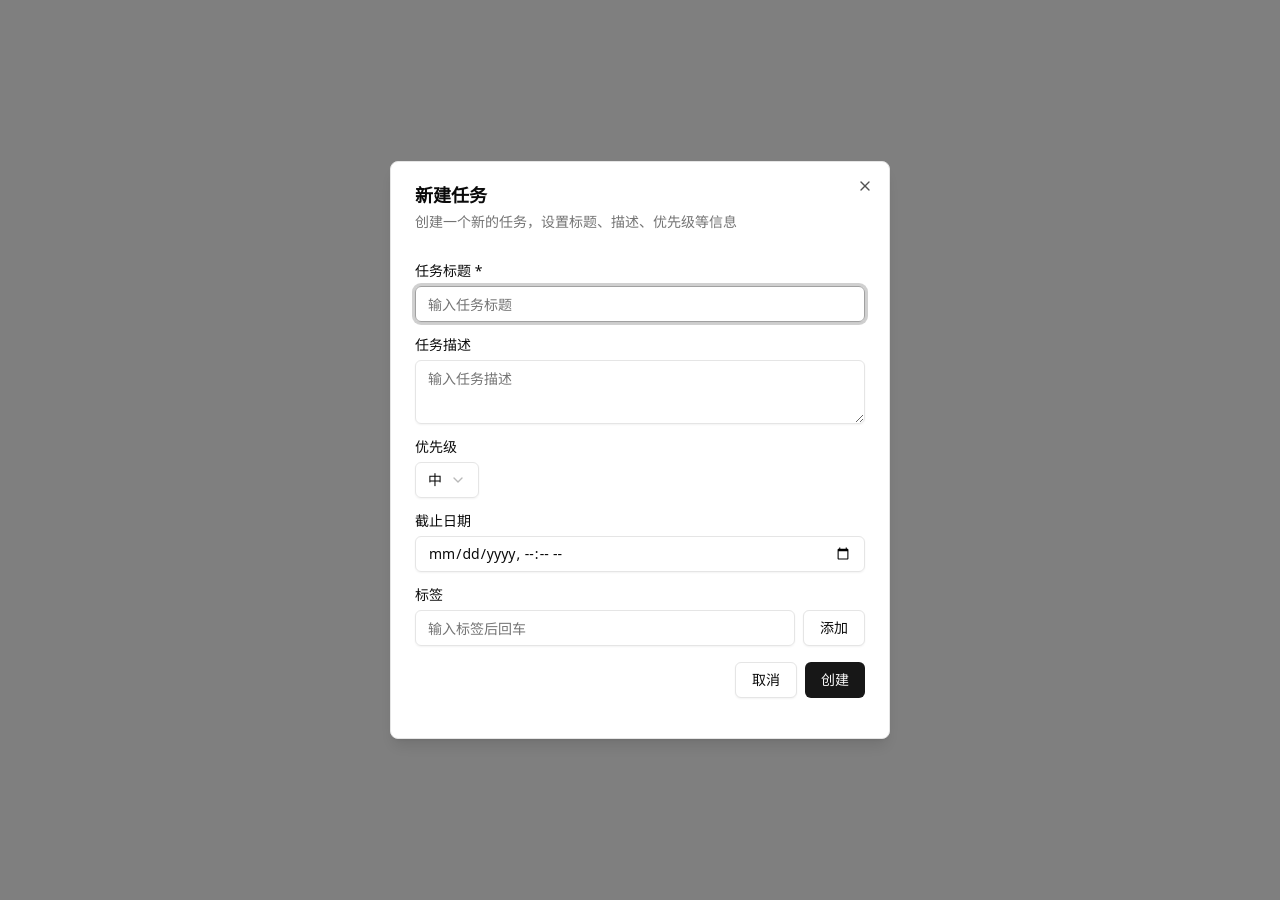
Test: TaskCreateDialog › 应该能够添加和删除标签
Type "tag1" into the field with placeholder "输入标签后回车".
click(605, 628); type("tag1")  # box left=415, top=610, right=795, bottom=646
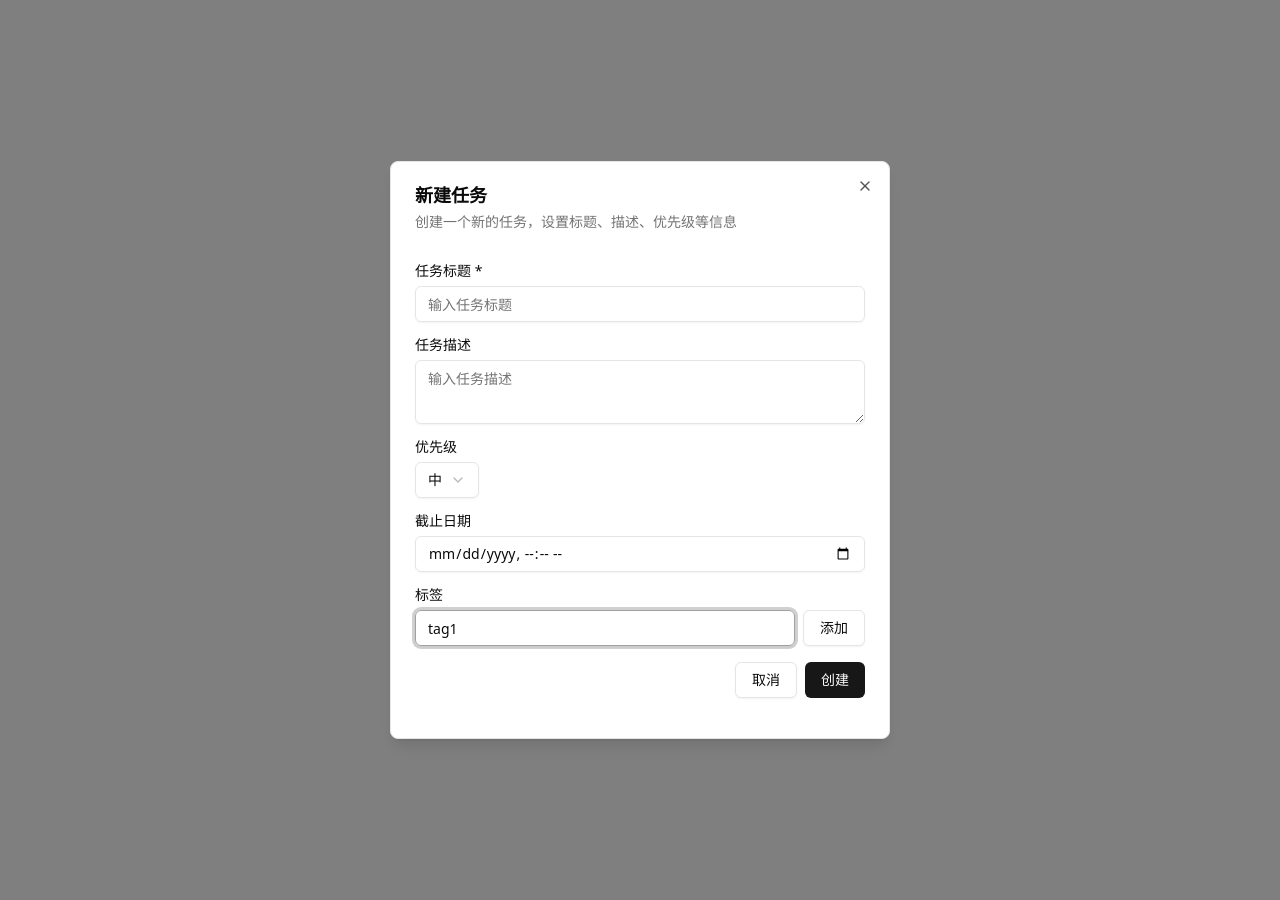
Click the button "添加".
click(834, 628)  # box left=803, top=610, right=865, bottom=646
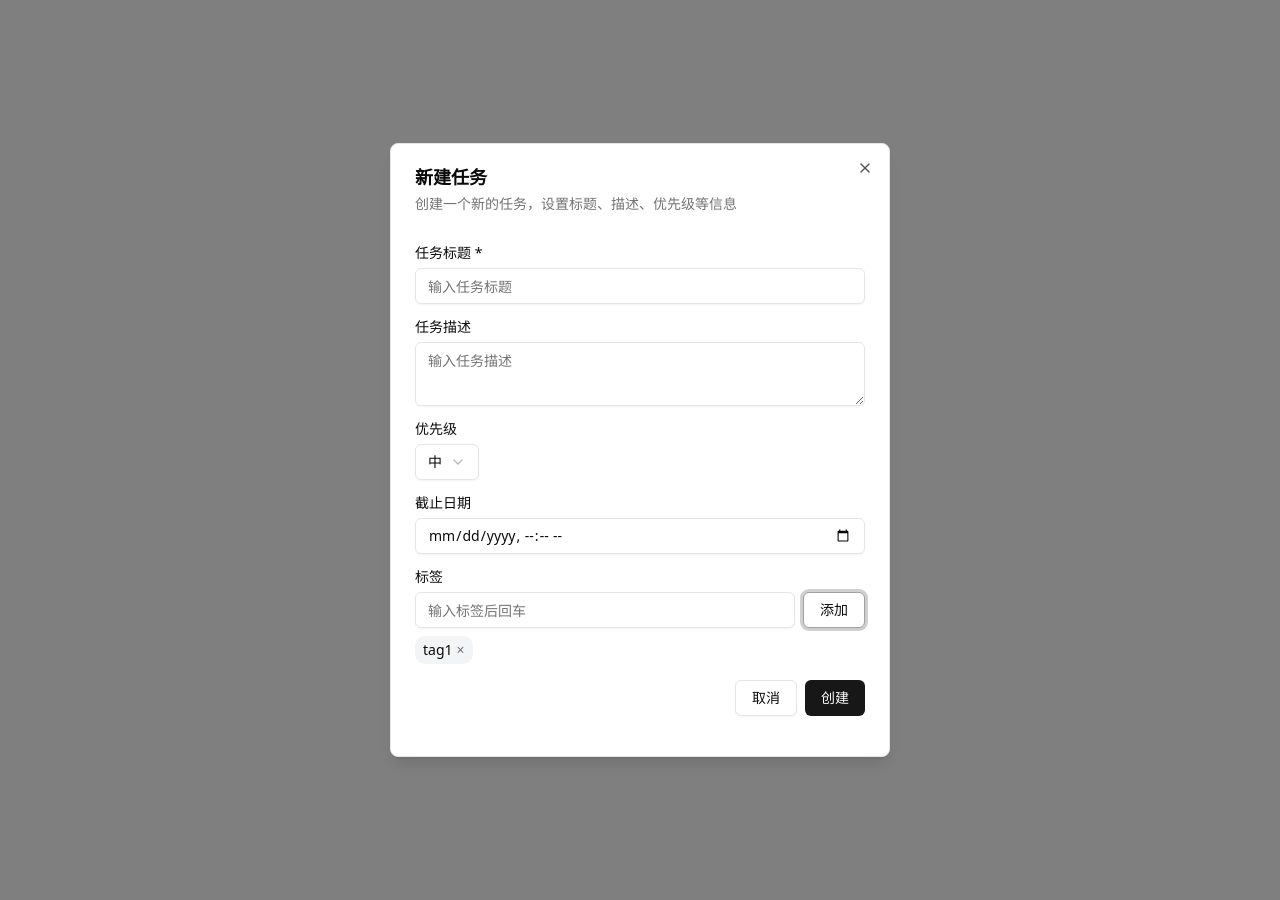
Expected: the text "tag1" is shown, left=423, top=640, right=452, bottom=659
 添加第二个标签
Type "tag2" into the field with placeholder "输入标签后回车".
click(605, 610); type("tag2")  # box left=415, top=592, right=795, bottom=628
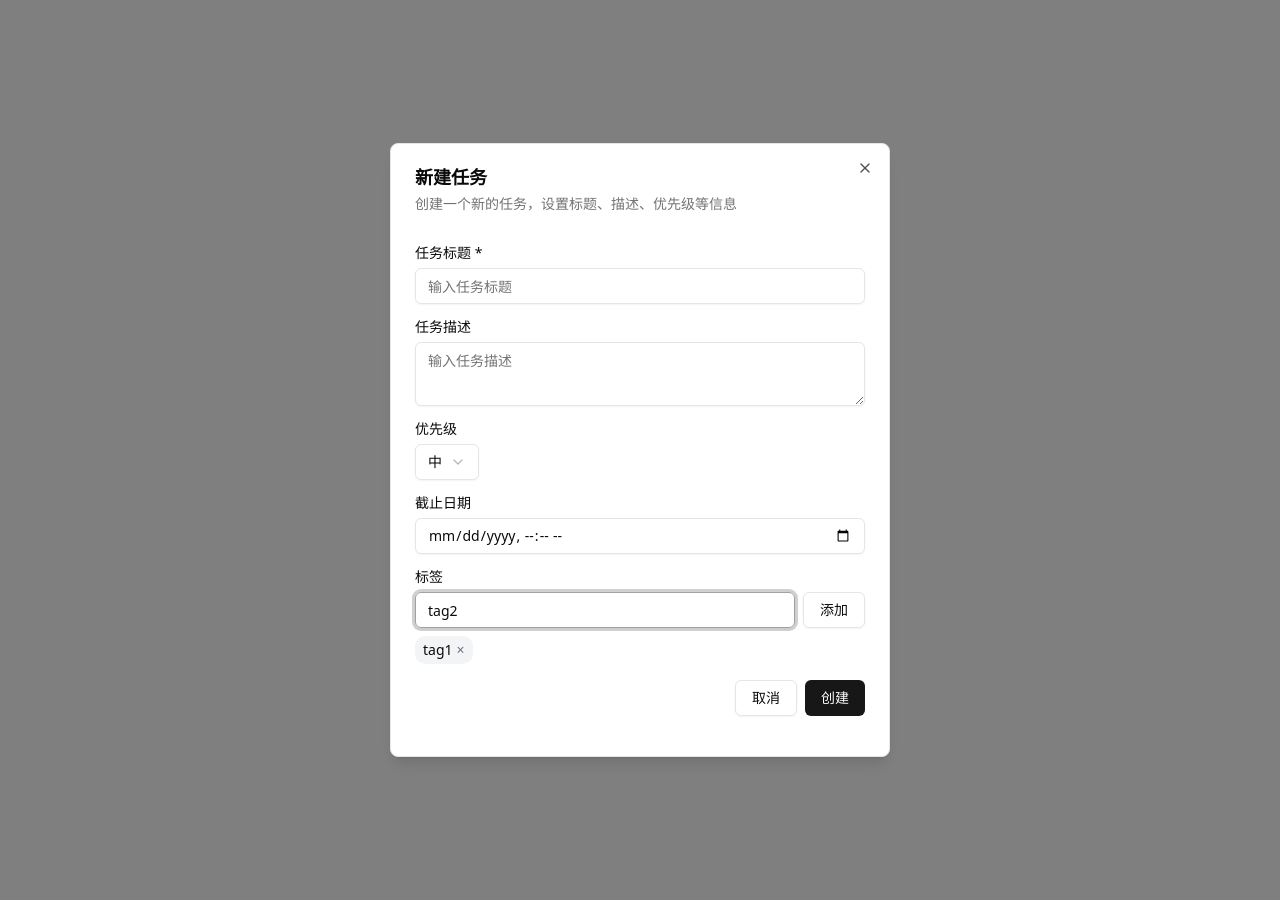
Click the button "添加".
click(834, 610)  # box left=803, top=592, right=865, bottom=628
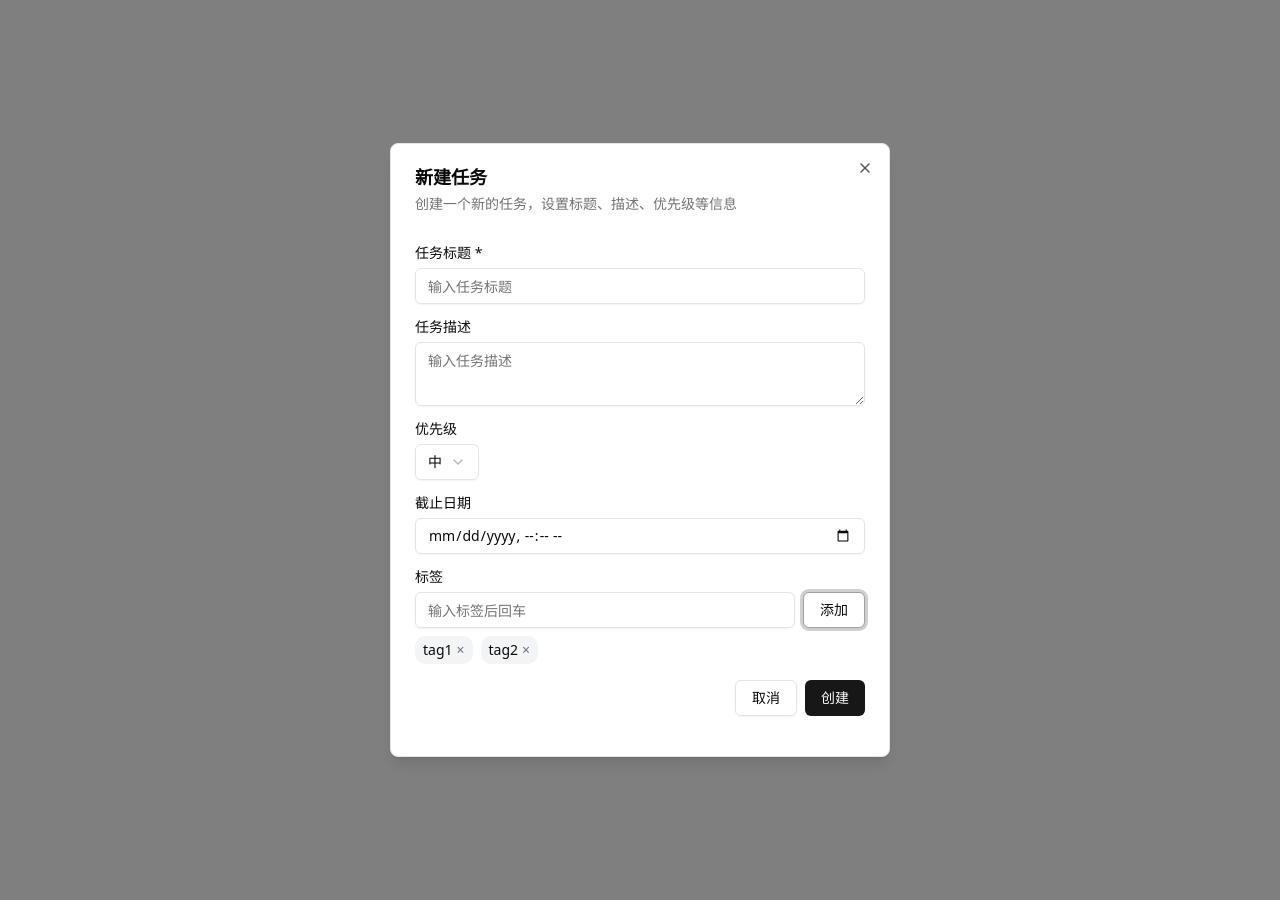
Expected: the text "tag2" is shown, left=488, top=640, right=518, bottom=659
Click the button "×" next to "tag1".
click(460, 650)  # box left=456, top=640, right=464, bottom=660
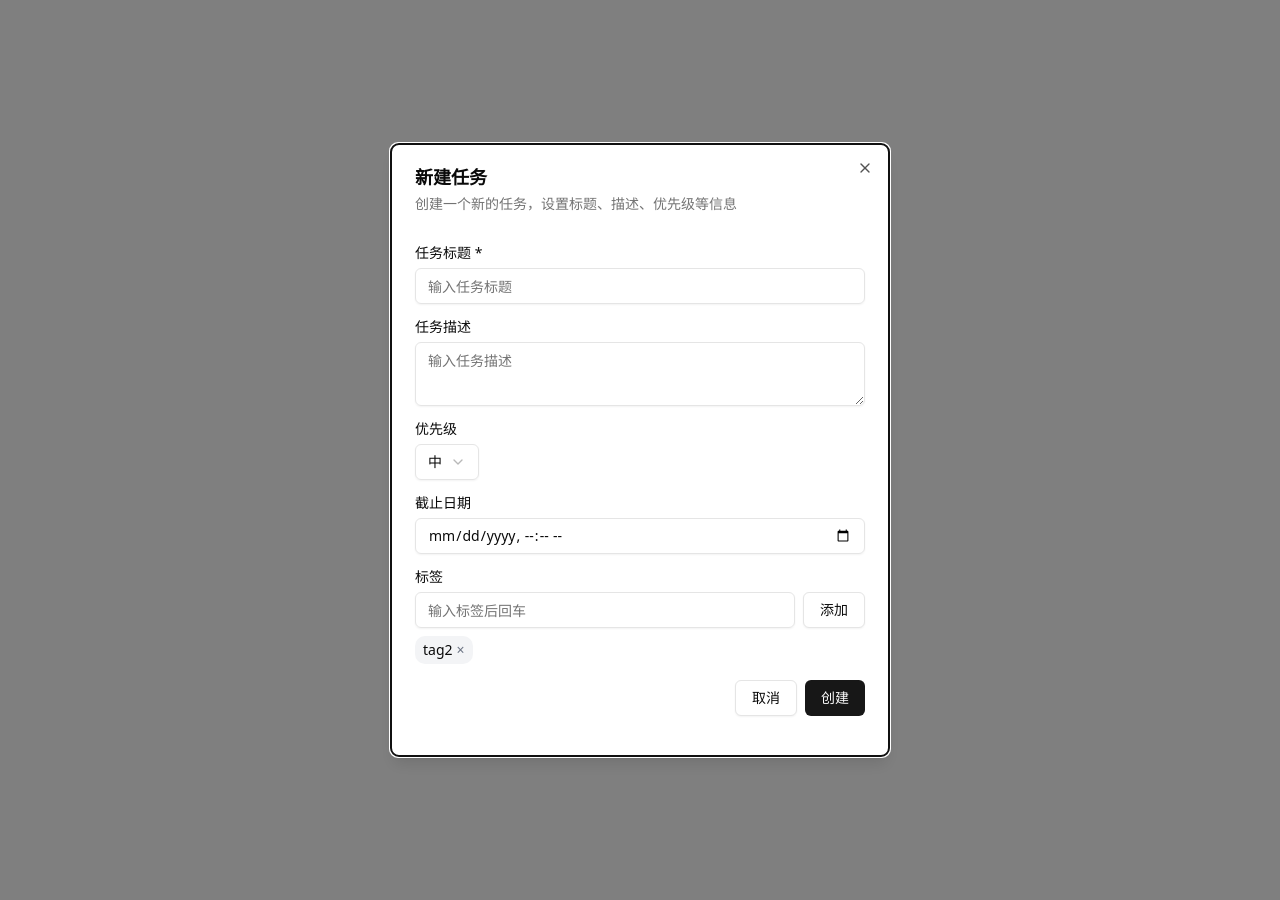
Expected: the text "tag1" is gone
